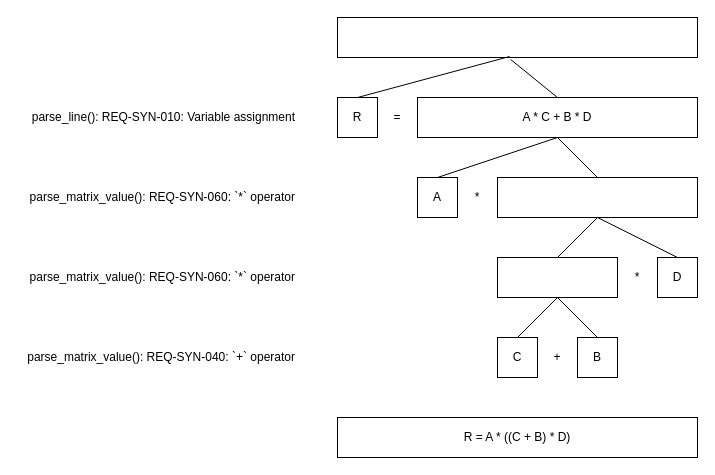
Some shapes in this 715 by 475 pixel diagram are drawn without their labels. Here are the shapes that lost their labels. From the top down, the centre of each, then its label:
(x=517, y=37): R = A * C + B * D
(x=597, y=197): C + B * D
(x=557, y=277): C + B
